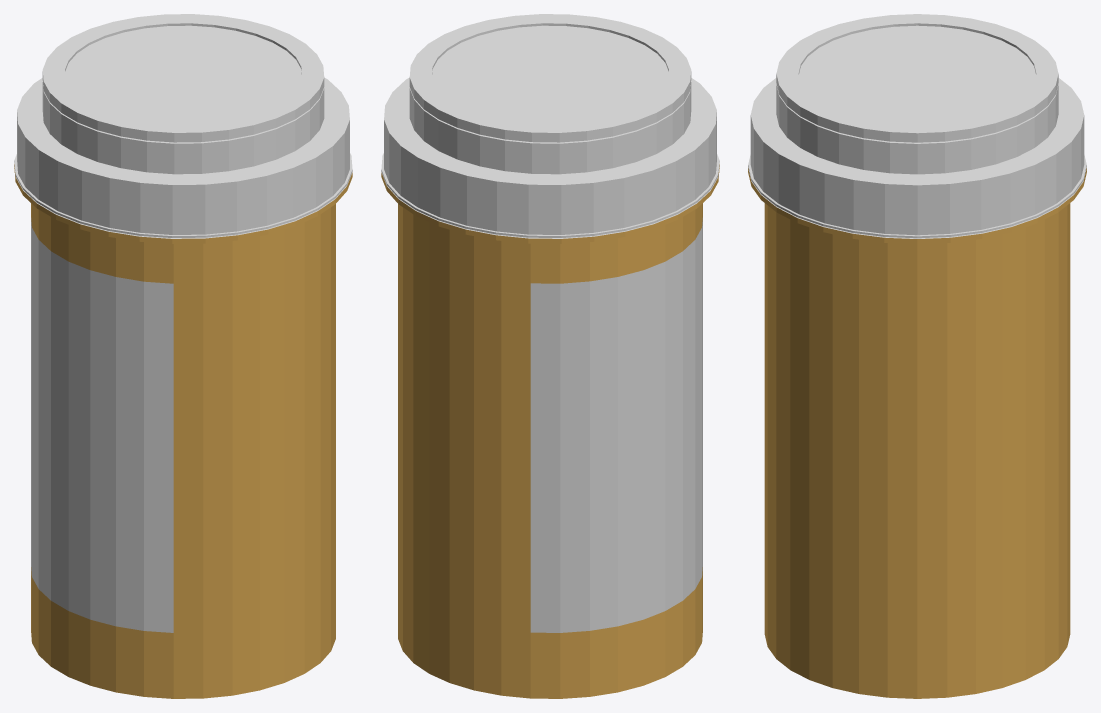
The model's file is Item_PainKillers.fbx.
The picture shows the model from 3 angles, left to right: view 1: azimuth 30°, elevation 25°; view 2: azimuth 150°, elevation 25°; view 3: azimuth 270°, elevation 25°; orthographic projection.
Visible parts, largest first — view 1: Cylinder; view 2: Cylinder; view 3: Cylinder.
Part boxes in pixels (<box>): Cylinder: <box>14,14,352,698</box>; Cylinder: <box>381,14,719,698</box>; Cylinder: <box>748,14,1086,698</box>.
Bounding box in the file's own units: 222 × 405 × 222.
